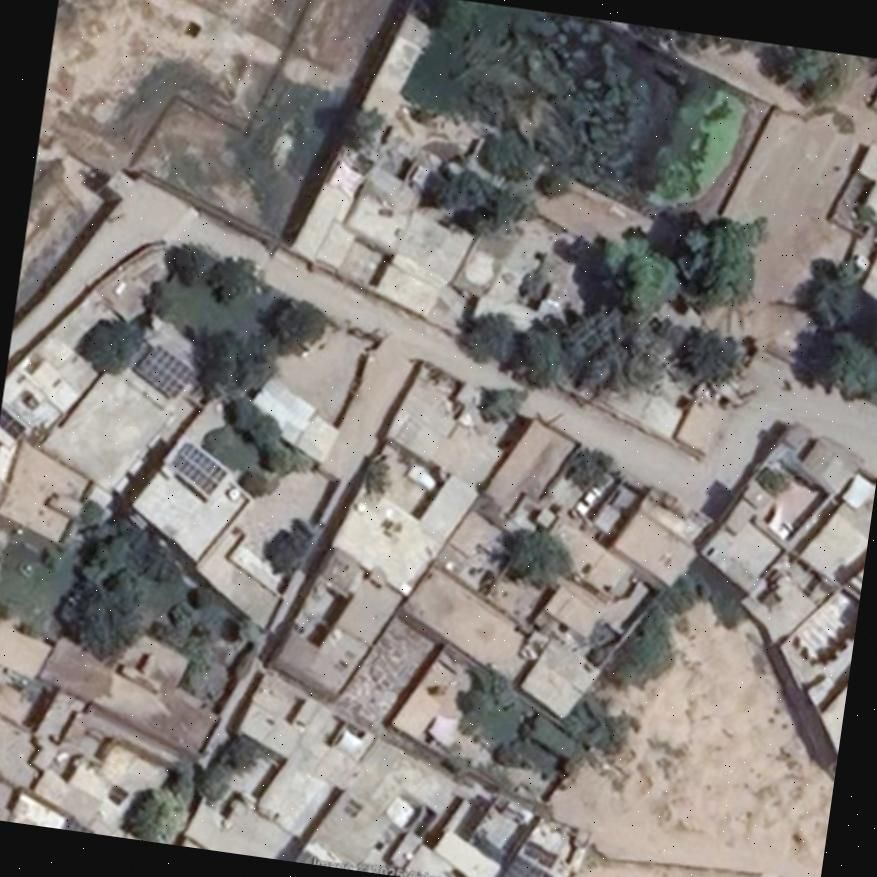Solarpanel: (132, 345, 191, 396), (169, 443, 226, 493), (502, 856, 544, 877), (0, 402, 24, 438)
